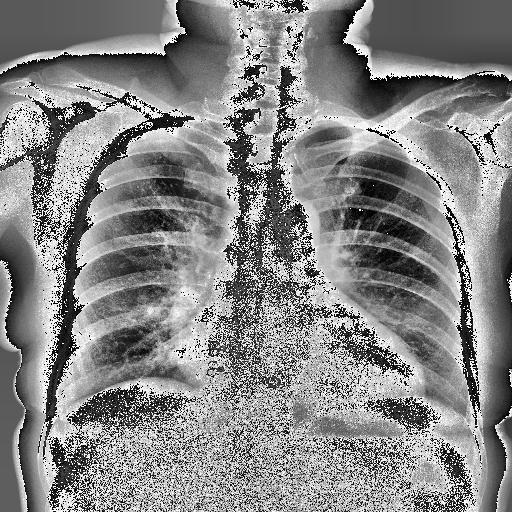10- Pleural effusion: (39, 393, 74, 448), (456, 404, 490, 456)
11- Pleural thickening: (39, 393, 74, 448), (456, 404, 490, 456)
3- Cardiomegaly: (176, 324, 424, 422), (173, 323, 425, 402), (176, 337, 432, 409)
